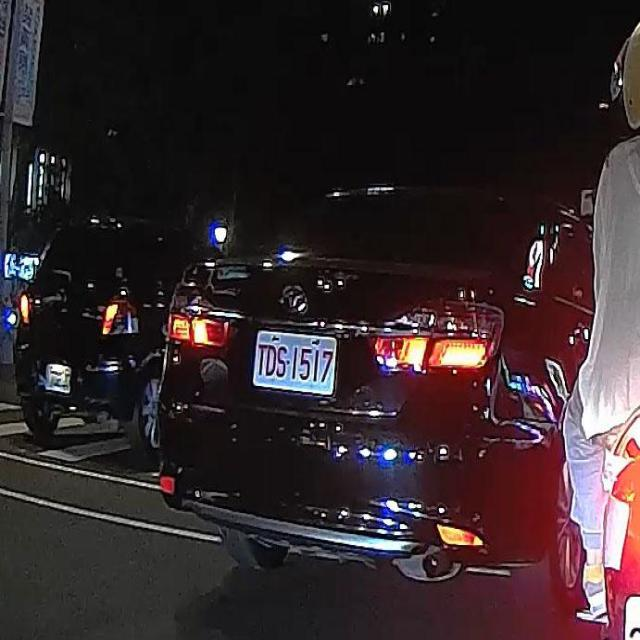license-plate: (255, 324, 336, 405)
